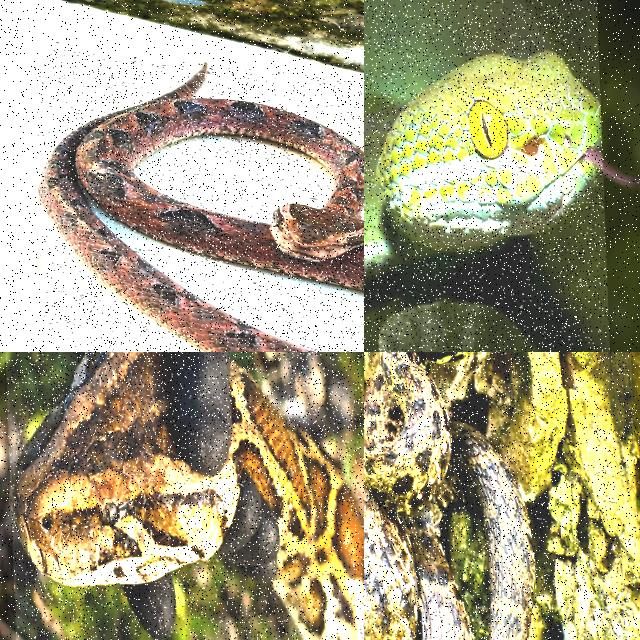Calloselasma rhodostoma: (40, 66, 363, 351)
Ovophis monticola: (364, 352, 534, 639)
Python bivittatus: (11, 352, 363, 639)
Trimeresurus macrops: (364, 0, 601, 281)
snake: (11, 352, 363, 639), (40, 66, 363, 351), (364, 0, 601, 281), (364, 352, 534, 639)
